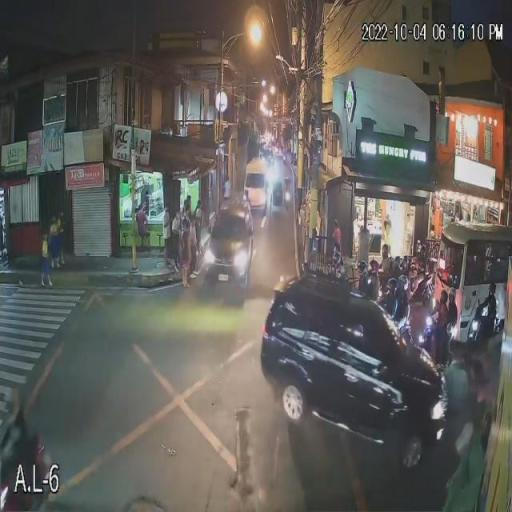helmet: (377, 242, 391, 258), (444, 287, 456, 305), (331, 250, 342, 267), (384, 276, 398, 289), (486, 284, 498, 299), (366, 259, 378, 271), (438, 290, 448, 304), (355, 262, 366, 274), (417, 247, 426, 258)
motorcycle: (402, 306, 442, 353), (461, 307, 497, 352), (350, 270, 382, 300), (409, 272, 436, 304)
rider: (382, 276, 410, 330), (469, 283, 496, 335), (433, 287, 454, 342), (360, 260, 382, 299), (411, 246, 428, 295), (327, 255, 348, 282), (354, 261, 367, 295)
